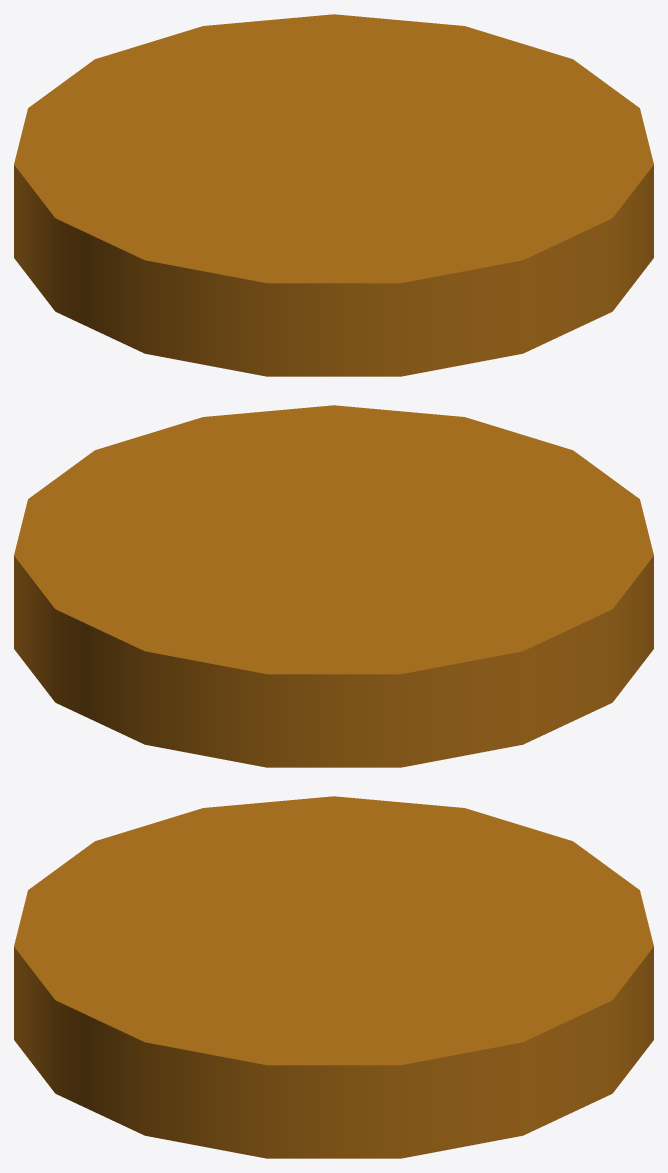
File: Bumper_A_Middle.fbx
3 renders of one model, top to bottom at view 1: azimuth 30°, elevation 25°; view 2: azimuth 150°, elevation 25°; view 3: azimuth 270°, elevation 25°, orthographic.
Parts seen in each view (by area): view 1: Bumper_A_Middle; view 2: Bumper_A_Middle; view 3: Bumper_A_Middle.
Boxes of the visible parts, box(x1,y1,x2,y2) form: Bumper_A_Middle: box(14, 14, 653, 376); Bumper_A_Middle: box(14, 405, 653, 767); Bumper_A_Middle: box(14, 796, 653, 1158).
Bounding box in the file's own units: 4.59 × 0.7434 × 4.61.
